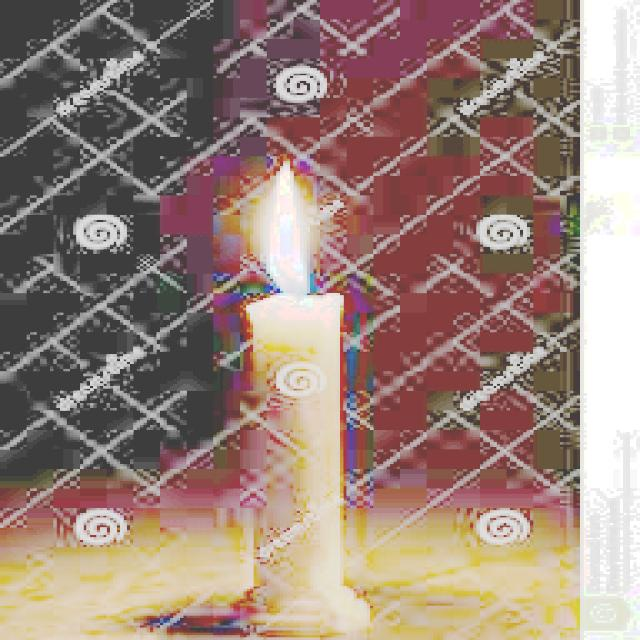api: (238, 160, 331, 304)
